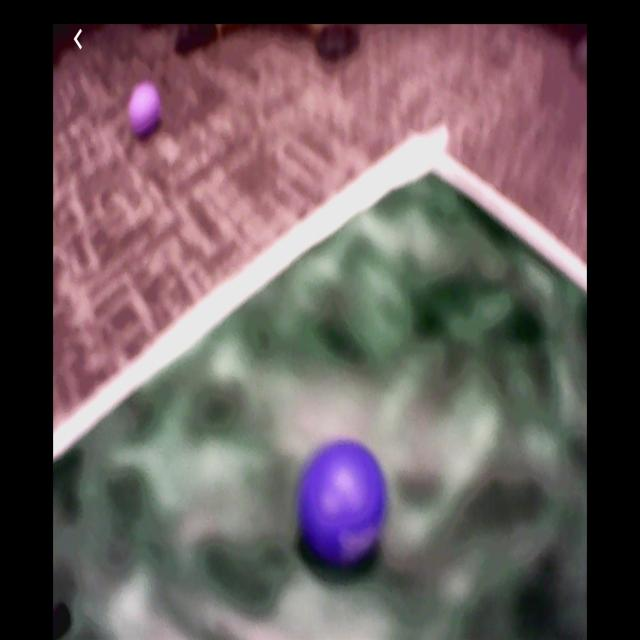ball: (298, 436, 384, 572), (127, 83, 161, 136)
